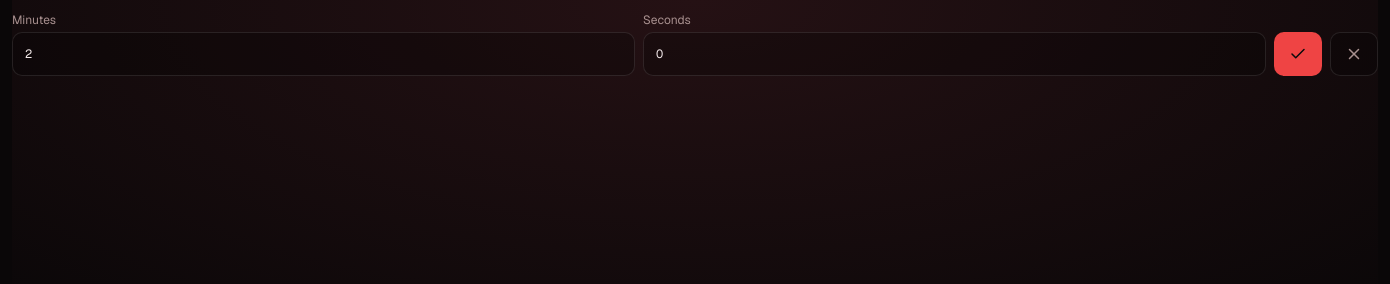
Test case: RestDurationPicker › caps each box at two digits
Replace the text in the field labelled "Seconds" with "1234" at (954, 54), box [643,32,1266,76]
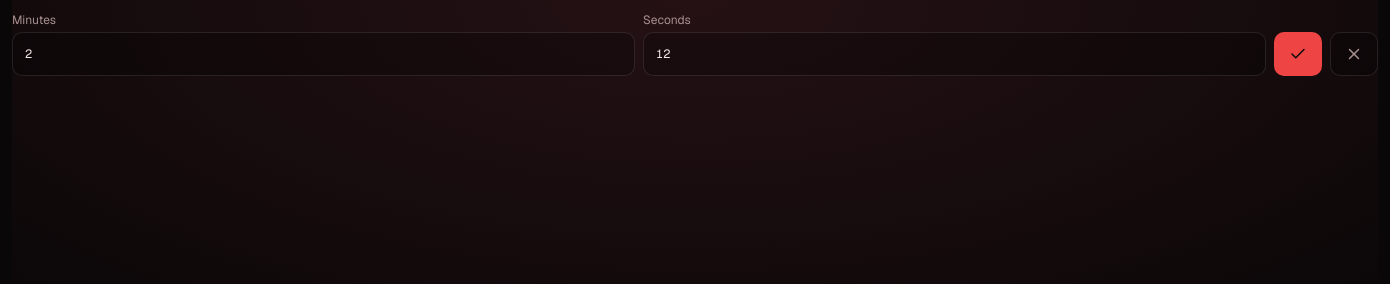
Check: the field labelled "Seconds" holds "12", box [643,32,1266,76]
